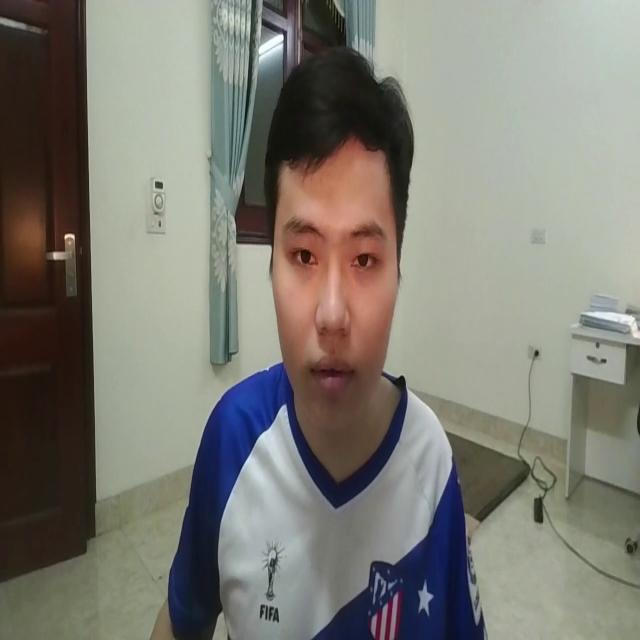student: (124, 33, 492, 640)
